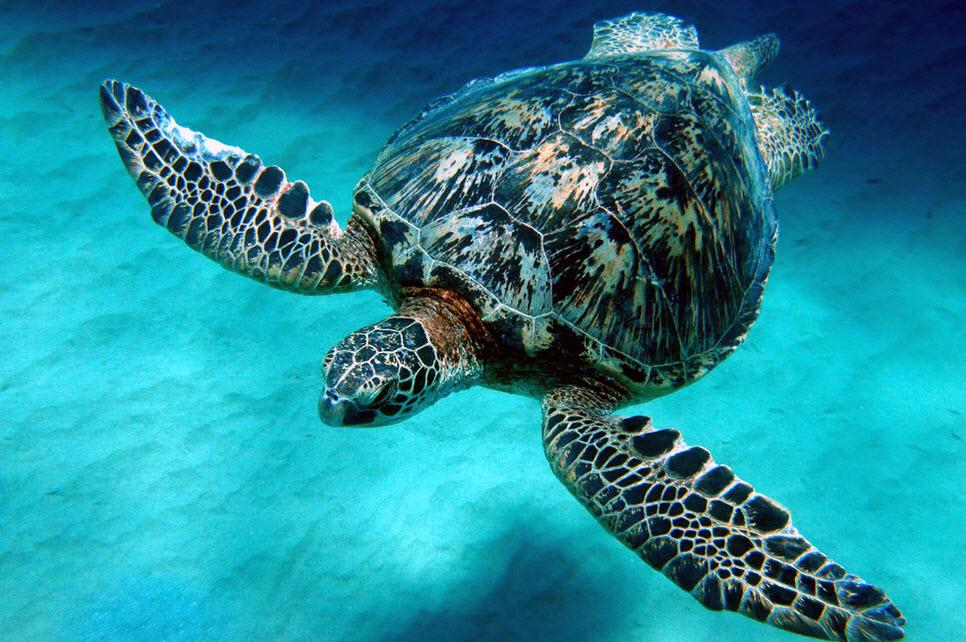turtle: (305, 302, 462, 441)
